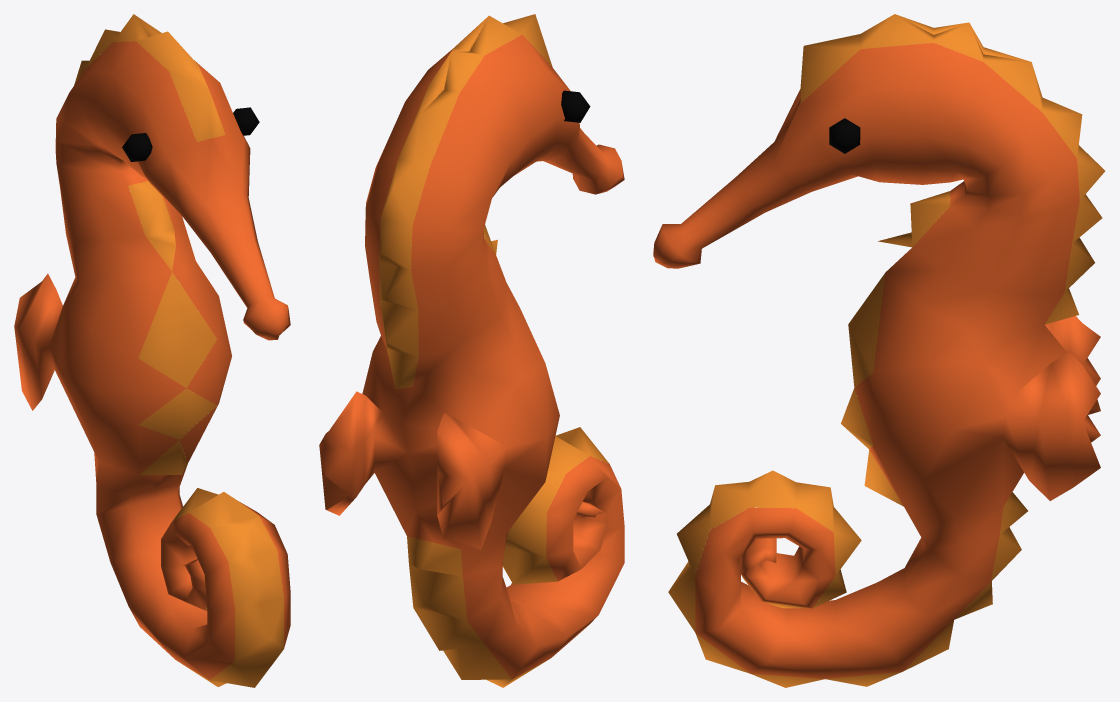
File: ActualSeahorse-transformed.glb
3 renders of one model, left to right at view 1: azimuth 30°, elevation 25°; view 2: azimuth 150°, elevation 25°; view 3: azimuth 270°, elevation 25°, orthographic. The views are drawn at different scales.
Visible parts, largest first — view 1: Symmetry.1; view 2: Symmetry.1; view 3: Symmetry.1.
Boxes of the visible parts, x1,y1,x2,y2 form: Symmetry.1: [14, 14, 290, 687]; Symmetry.1: [319, 14, 624, 687]; Symmetry.1: [653, 14, 1104, 687].
Size of the model in its own units: 132 by 494 by 300.
